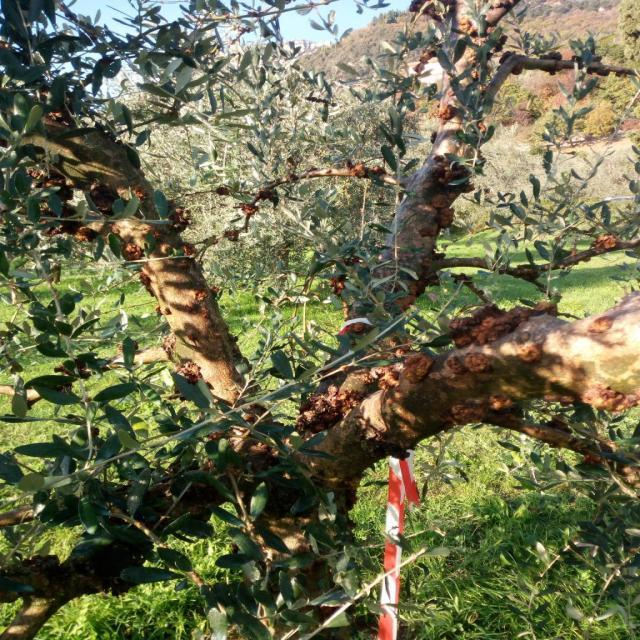Tuberculosis: (448, 304, 538, 348), (428, 153, 474, 230), (296, 386, 366, 434), (441, 396, 527, 434), (541, 386, 639, 412), (392, 265, 438, 311), (442, 346, 492, 376), (400, 352, 431, 383), (578, 314, 612, 335), (343, 161, 381, 179), (177, 361, 200, 385), (371, 370, 398, 390), (590, 234, 618, 253), (515, 343, 541, 362), (435, 102, 455, 126), (122, 242, 144, 260), (238, 204, 258, 218), (540, 51, 562, 60)
